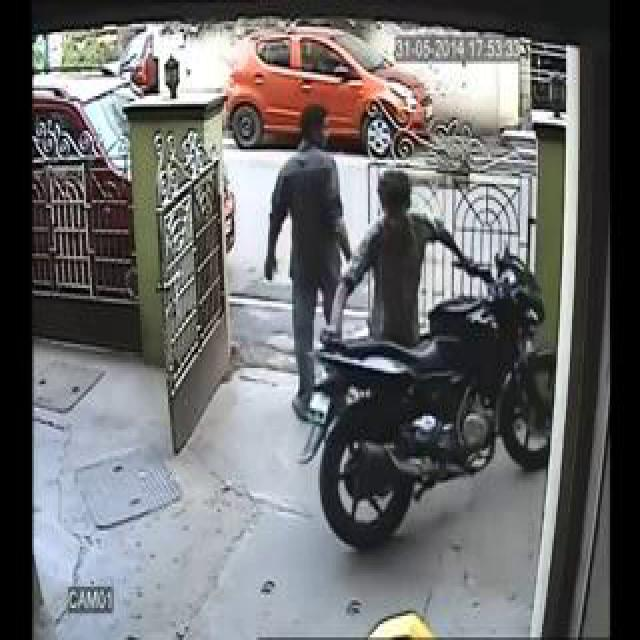stealing: (260, 80, 566, 543)
